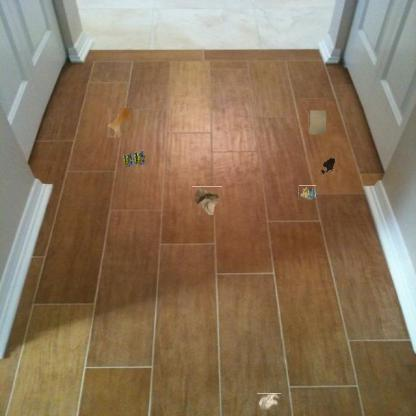dirty: (192, 186, 222, 215), (308, 109, 326, 135), (257, 393, 281, 410), (123, 151, 145, 169), (298, 185, 316, 200)
liquid: (107, 108, 133, 138), (320, 157, 336, 175)
